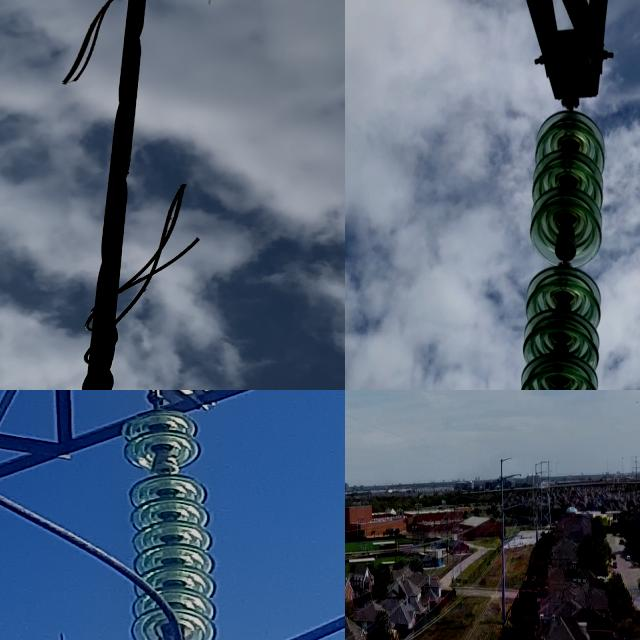正常绝缘子: (115, 398, 223, 640), (522, 111, 602, 390)
电缆破损: (23, 0, 245, 374)
绝缘子破损: (550, 235, 582, 264), (149, 455, 182, 473)
